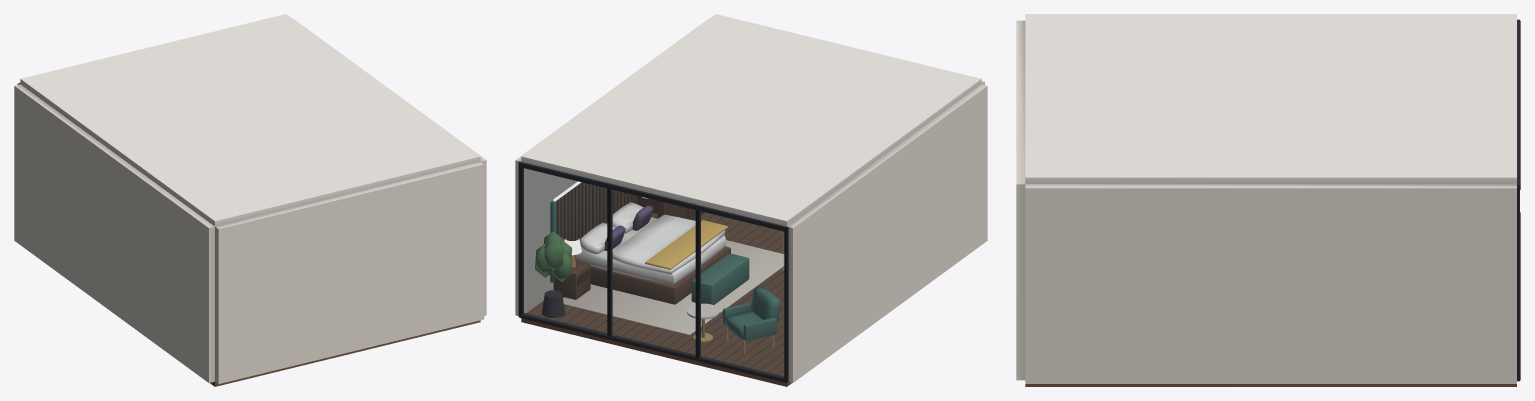
File: os-castle.glb
The picture shows the model from 3 angles, left to right: view 1: azimuth 30°, elevation 25°; view 2: azimuth 150°, elevation 25°; view 3: azimuth 270°, elevation 25°; orthographic projection. The views are drawn at different scales.
Visible parts, largest first — view 1: Room_wall, Room_ceiling, Room_floor; view 2: Room_ceiling, Room_wall, Room_glass, Room_floor, Room_frameDark, Room_wood, Room_rug, Room_fabric2, Room_linen, Room_duvet, Room_throw, Room_leaf (+4 smaller); view 3: Room_wall, Room_ceiling, Room_floor, Room_frameDark.
Part boxes in pixels (box(x1,y1,x2,y2)): Room_wall: box(14, 18, 486, 384); Room_ceiling: box(20, 14, 480, 226); Room_floor: box(210, 320, 480, 386); Room_ceiling: box(521, 14, 981, 226); Room_wall: box(515, 18, 987, 382); Room_glass: box(523, 168, 783, 376); Room_floor: box(521, 212, 791, 386); Room_frameDark: box(518, 161, 788, 382); Room_wood: box(553, 182, 730, 304); Room_rug: box(563, 240, 784, 335); Room_fabric2: box(691, 253, 780, 340); Room_linen: box(575, 202, 726, 285); Room_duvet: box(612, 214, 725, 274); Room_throw: box(645, 220, 727, 269); Room_leaf: box(535, 231, 572, 281); Room_wall: box(1016, 20, 1516, 383); Room_ceiling: box(1025, 14, 1516, 184); Room_floor: box(1025, 384, 1516, 386); Room_frameDark: box(1517, 19, 1520, 381).
Bounding box in the file's own units: 5.44 × 3.1 × 6.77.
